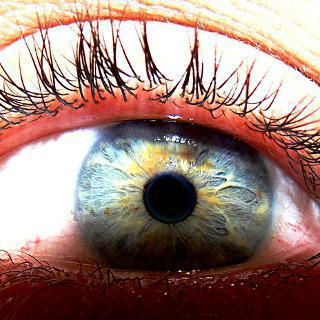iris: (75, 100, 272, 297)
